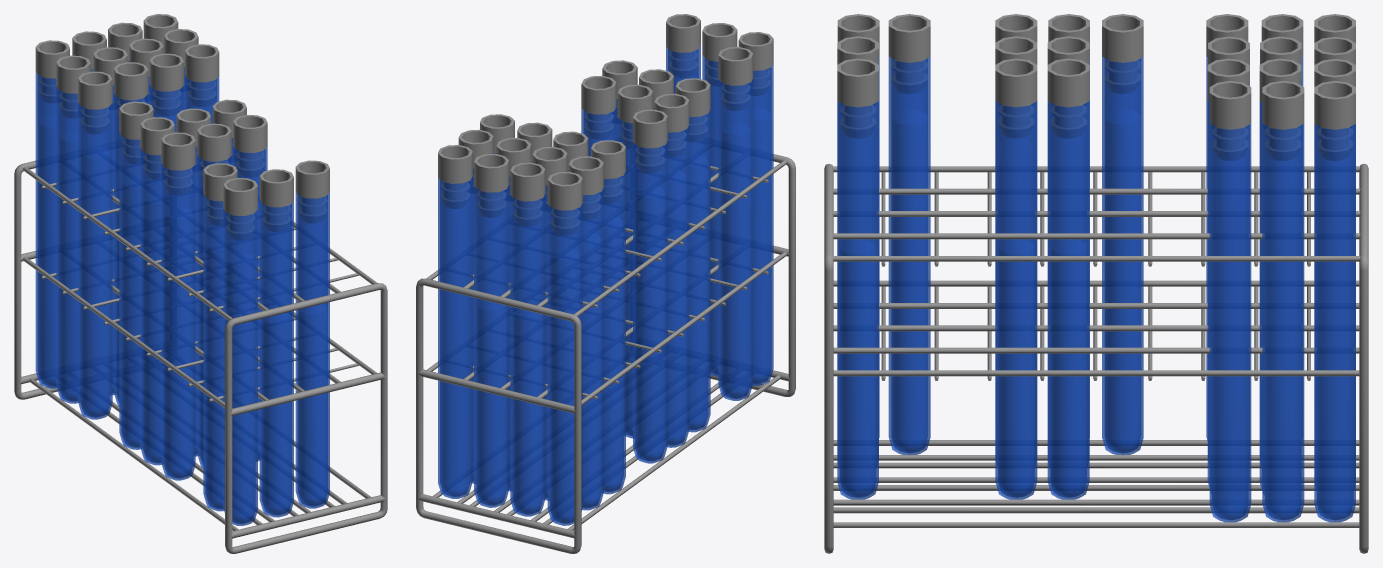
File: SM_Test_Tube_Pattern3_LOD0.FBX
3 renders of one model, left to right at view 1: azimuth 30°, elevation 25°; view 2: azimuth 150°, elevation 25°; view 3: azimuth 270°, elevation 25°, orthographic. The views are drawn at different scales.
Parts seen in each view (by area): view 1: SM_Test_Tube_Pattern03; view 2: SM_Test_Tube_Pattern03; view 3: SM_Test_Tube_Pattern03.
Boxes of the visible parts, x1,y1,x2,y2 form: SM_Test_Tube_Pattern03: [14, 14, 387, 553]; SM_Test_Tube_Pattern03: [416, 14, 795, 553]; SM_Test_Tube_Pattern03: [824, 14, 1368, 553].
Size of the model in its own units: 0.0861 by 0.1812 by 0.198.
